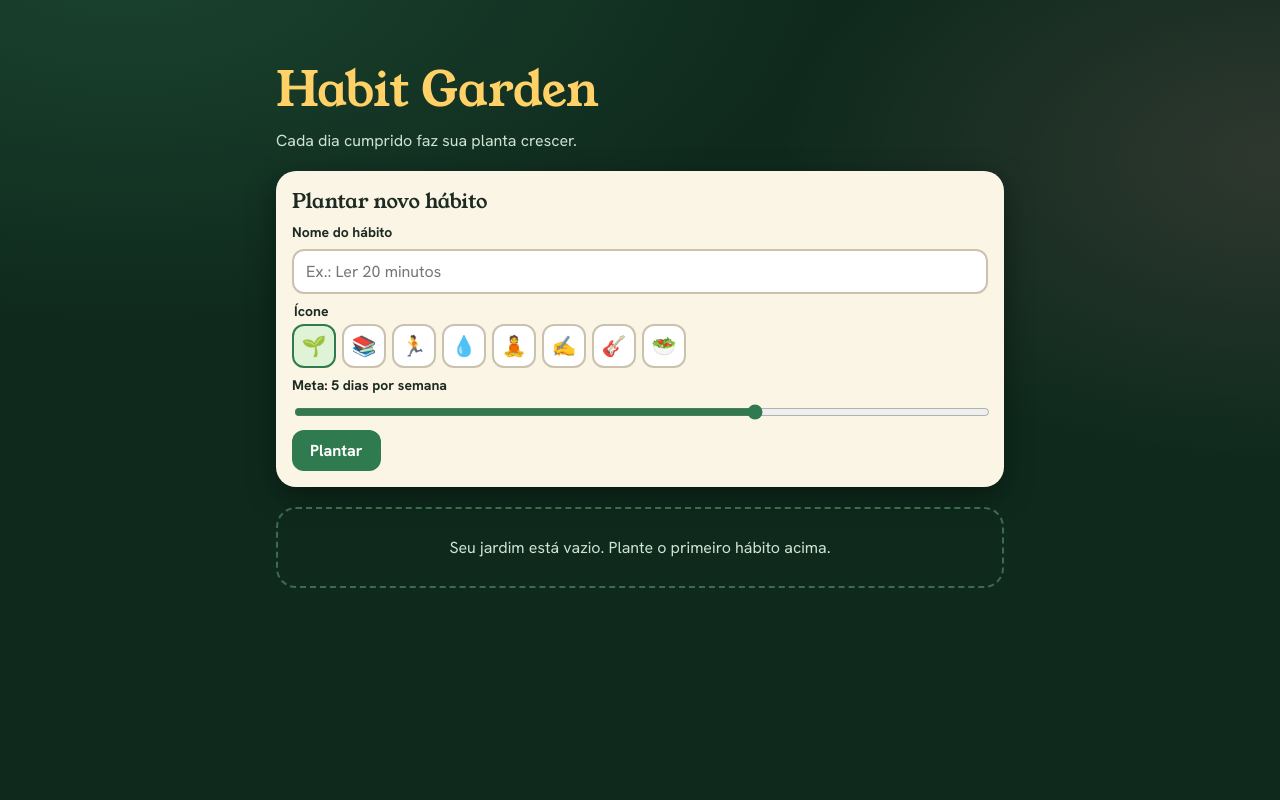
it: exclui com confirmação
Type "Correr" into the field labelled "Nome do hábito" at (640, 272), box 292,249 -> 988,294
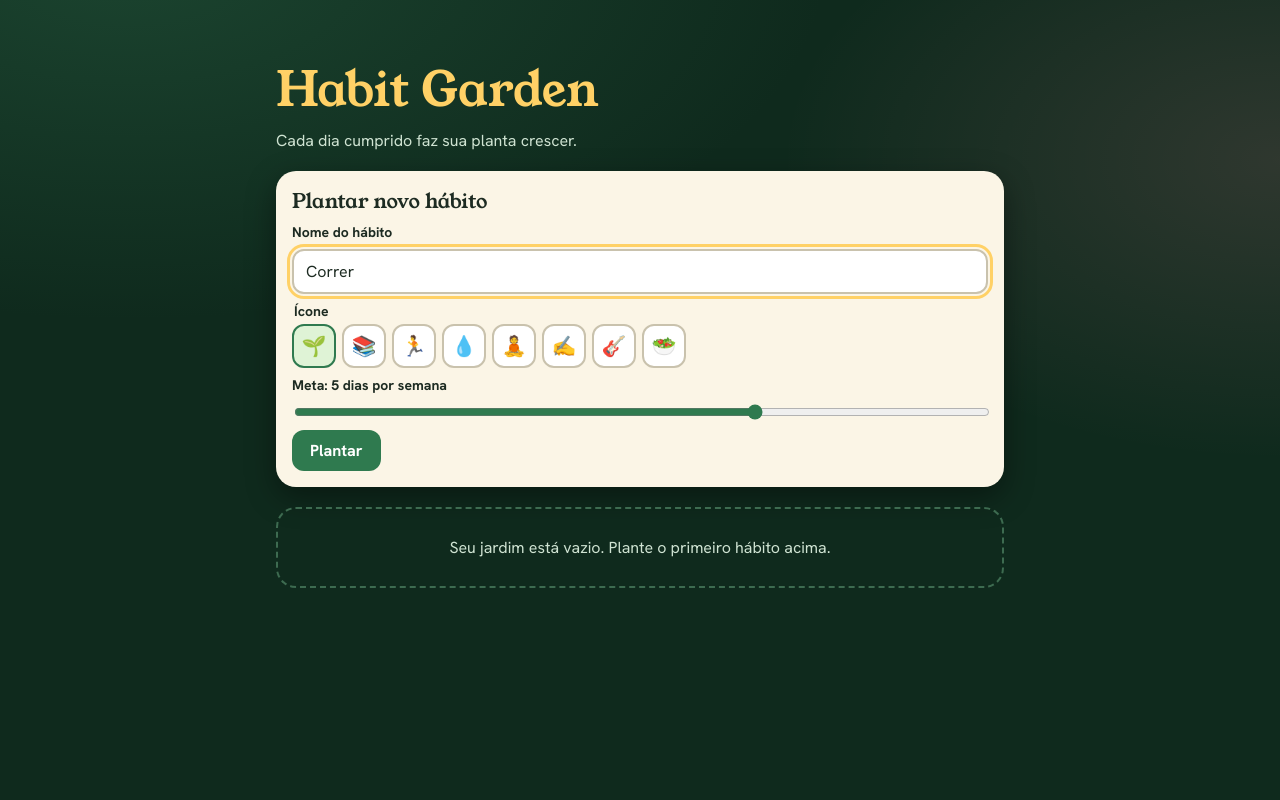
Click the button "Plantar" at (336, 450), box 292,430 -> 381,471
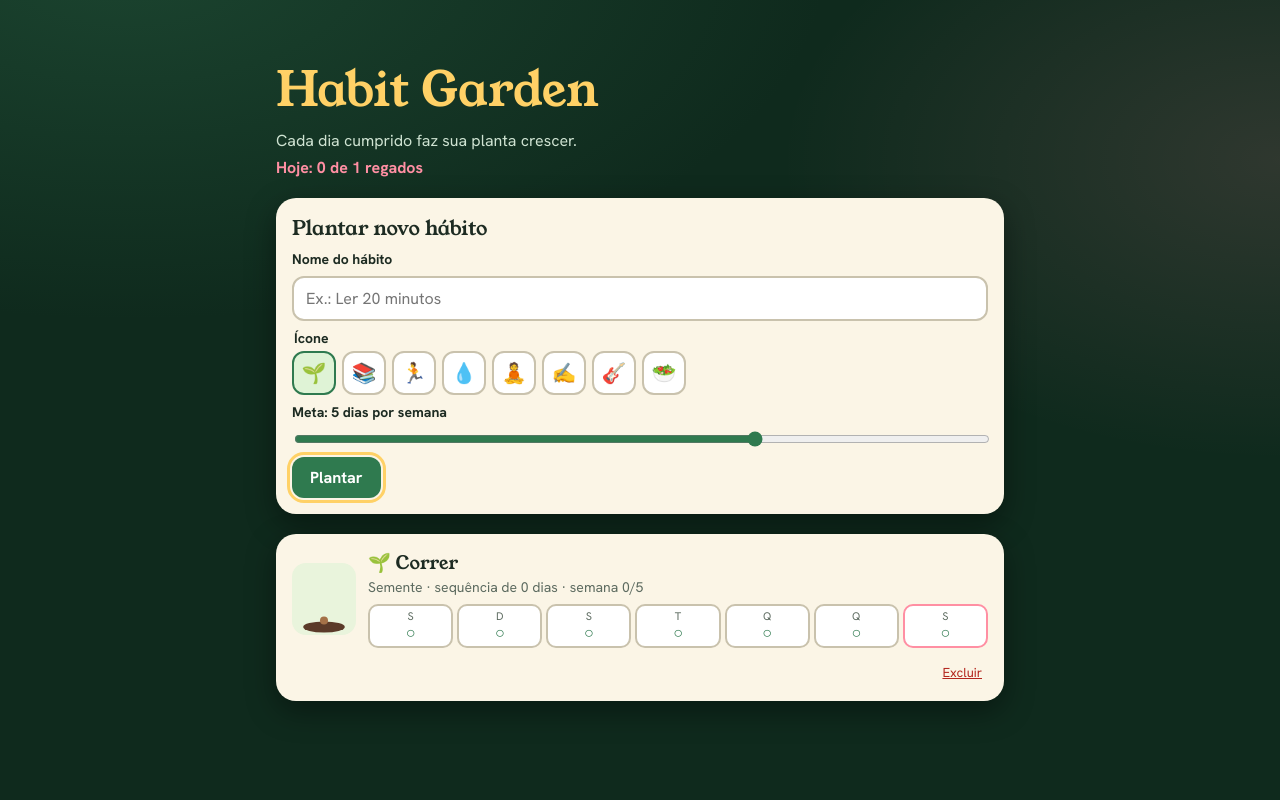
Click the button with aria-label "Excluir Correr" at (962, 673), box 936,660 -> 988,685
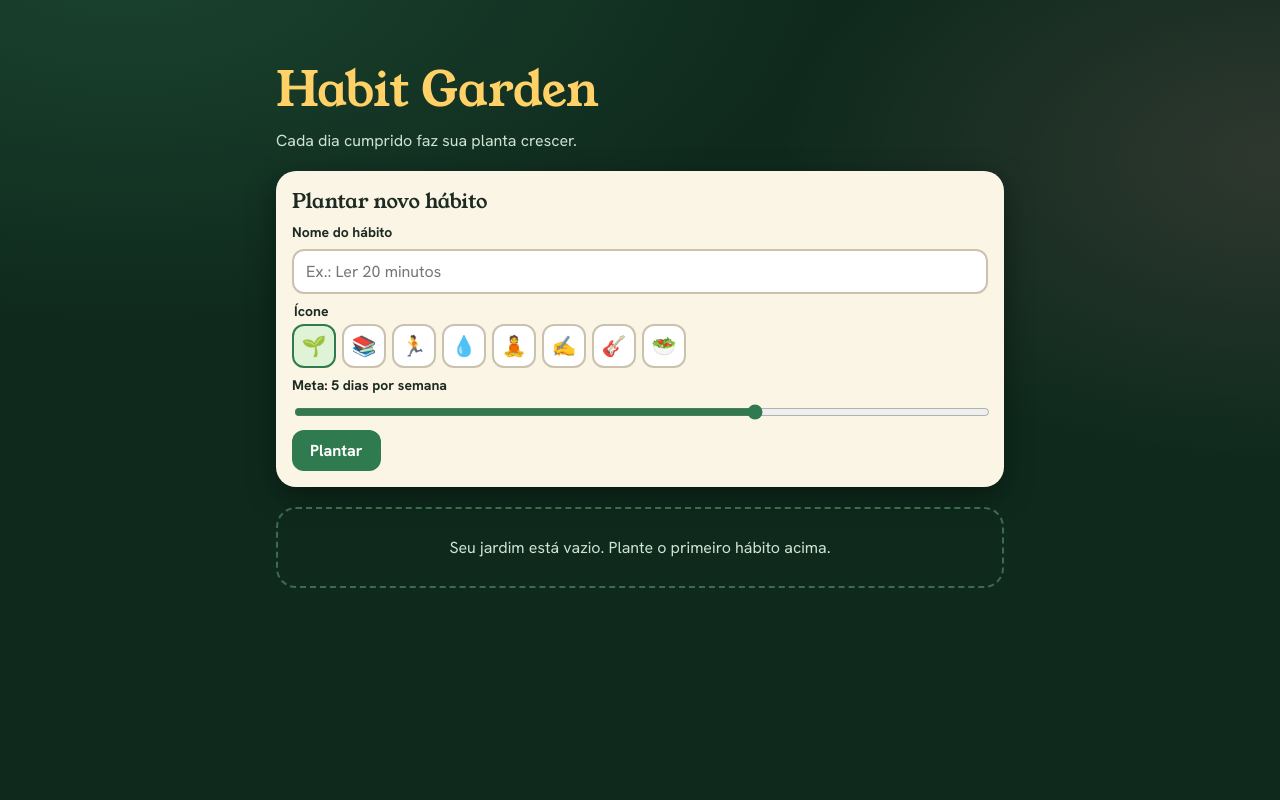
Check: the text "Seu jardim está vazio. Plante o primeiro hábito acima." is shown, box 276,507 -> 1004,588
